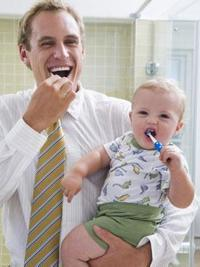person: (61, 80, 196, 265)
